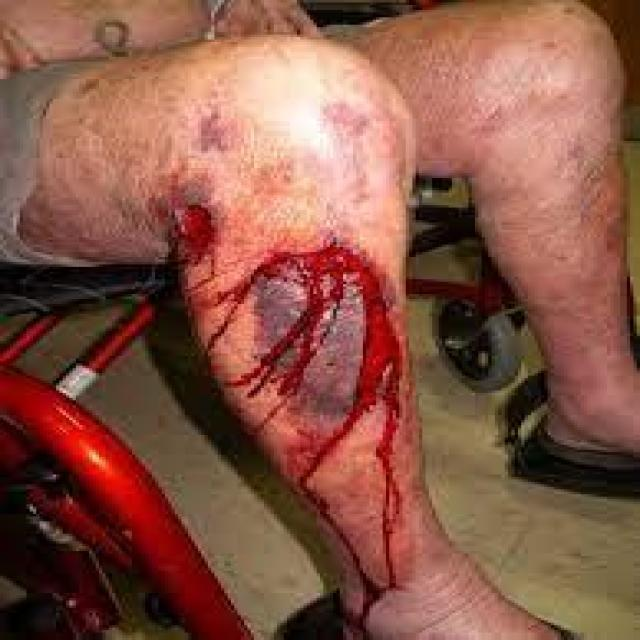flood: (222, 246, 410, 562), (165, 190, 223, 254)
